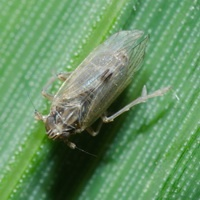insect: (35, 30, 170, 152)
